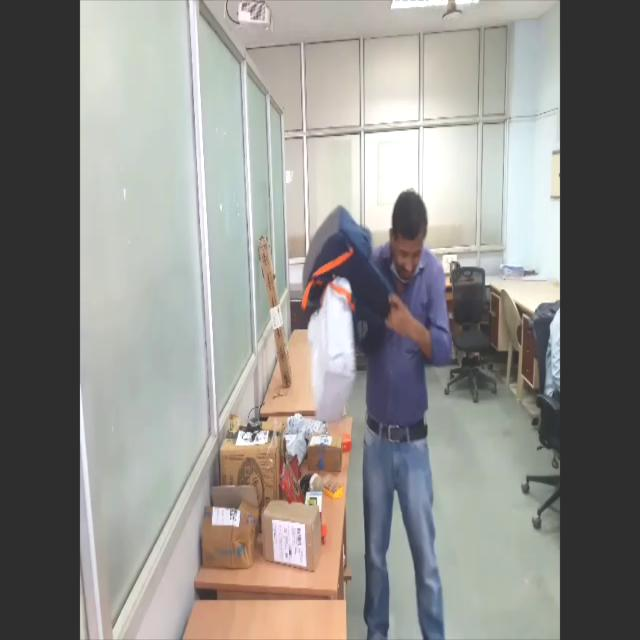shoplifting: (301, 186, 454, 640)
